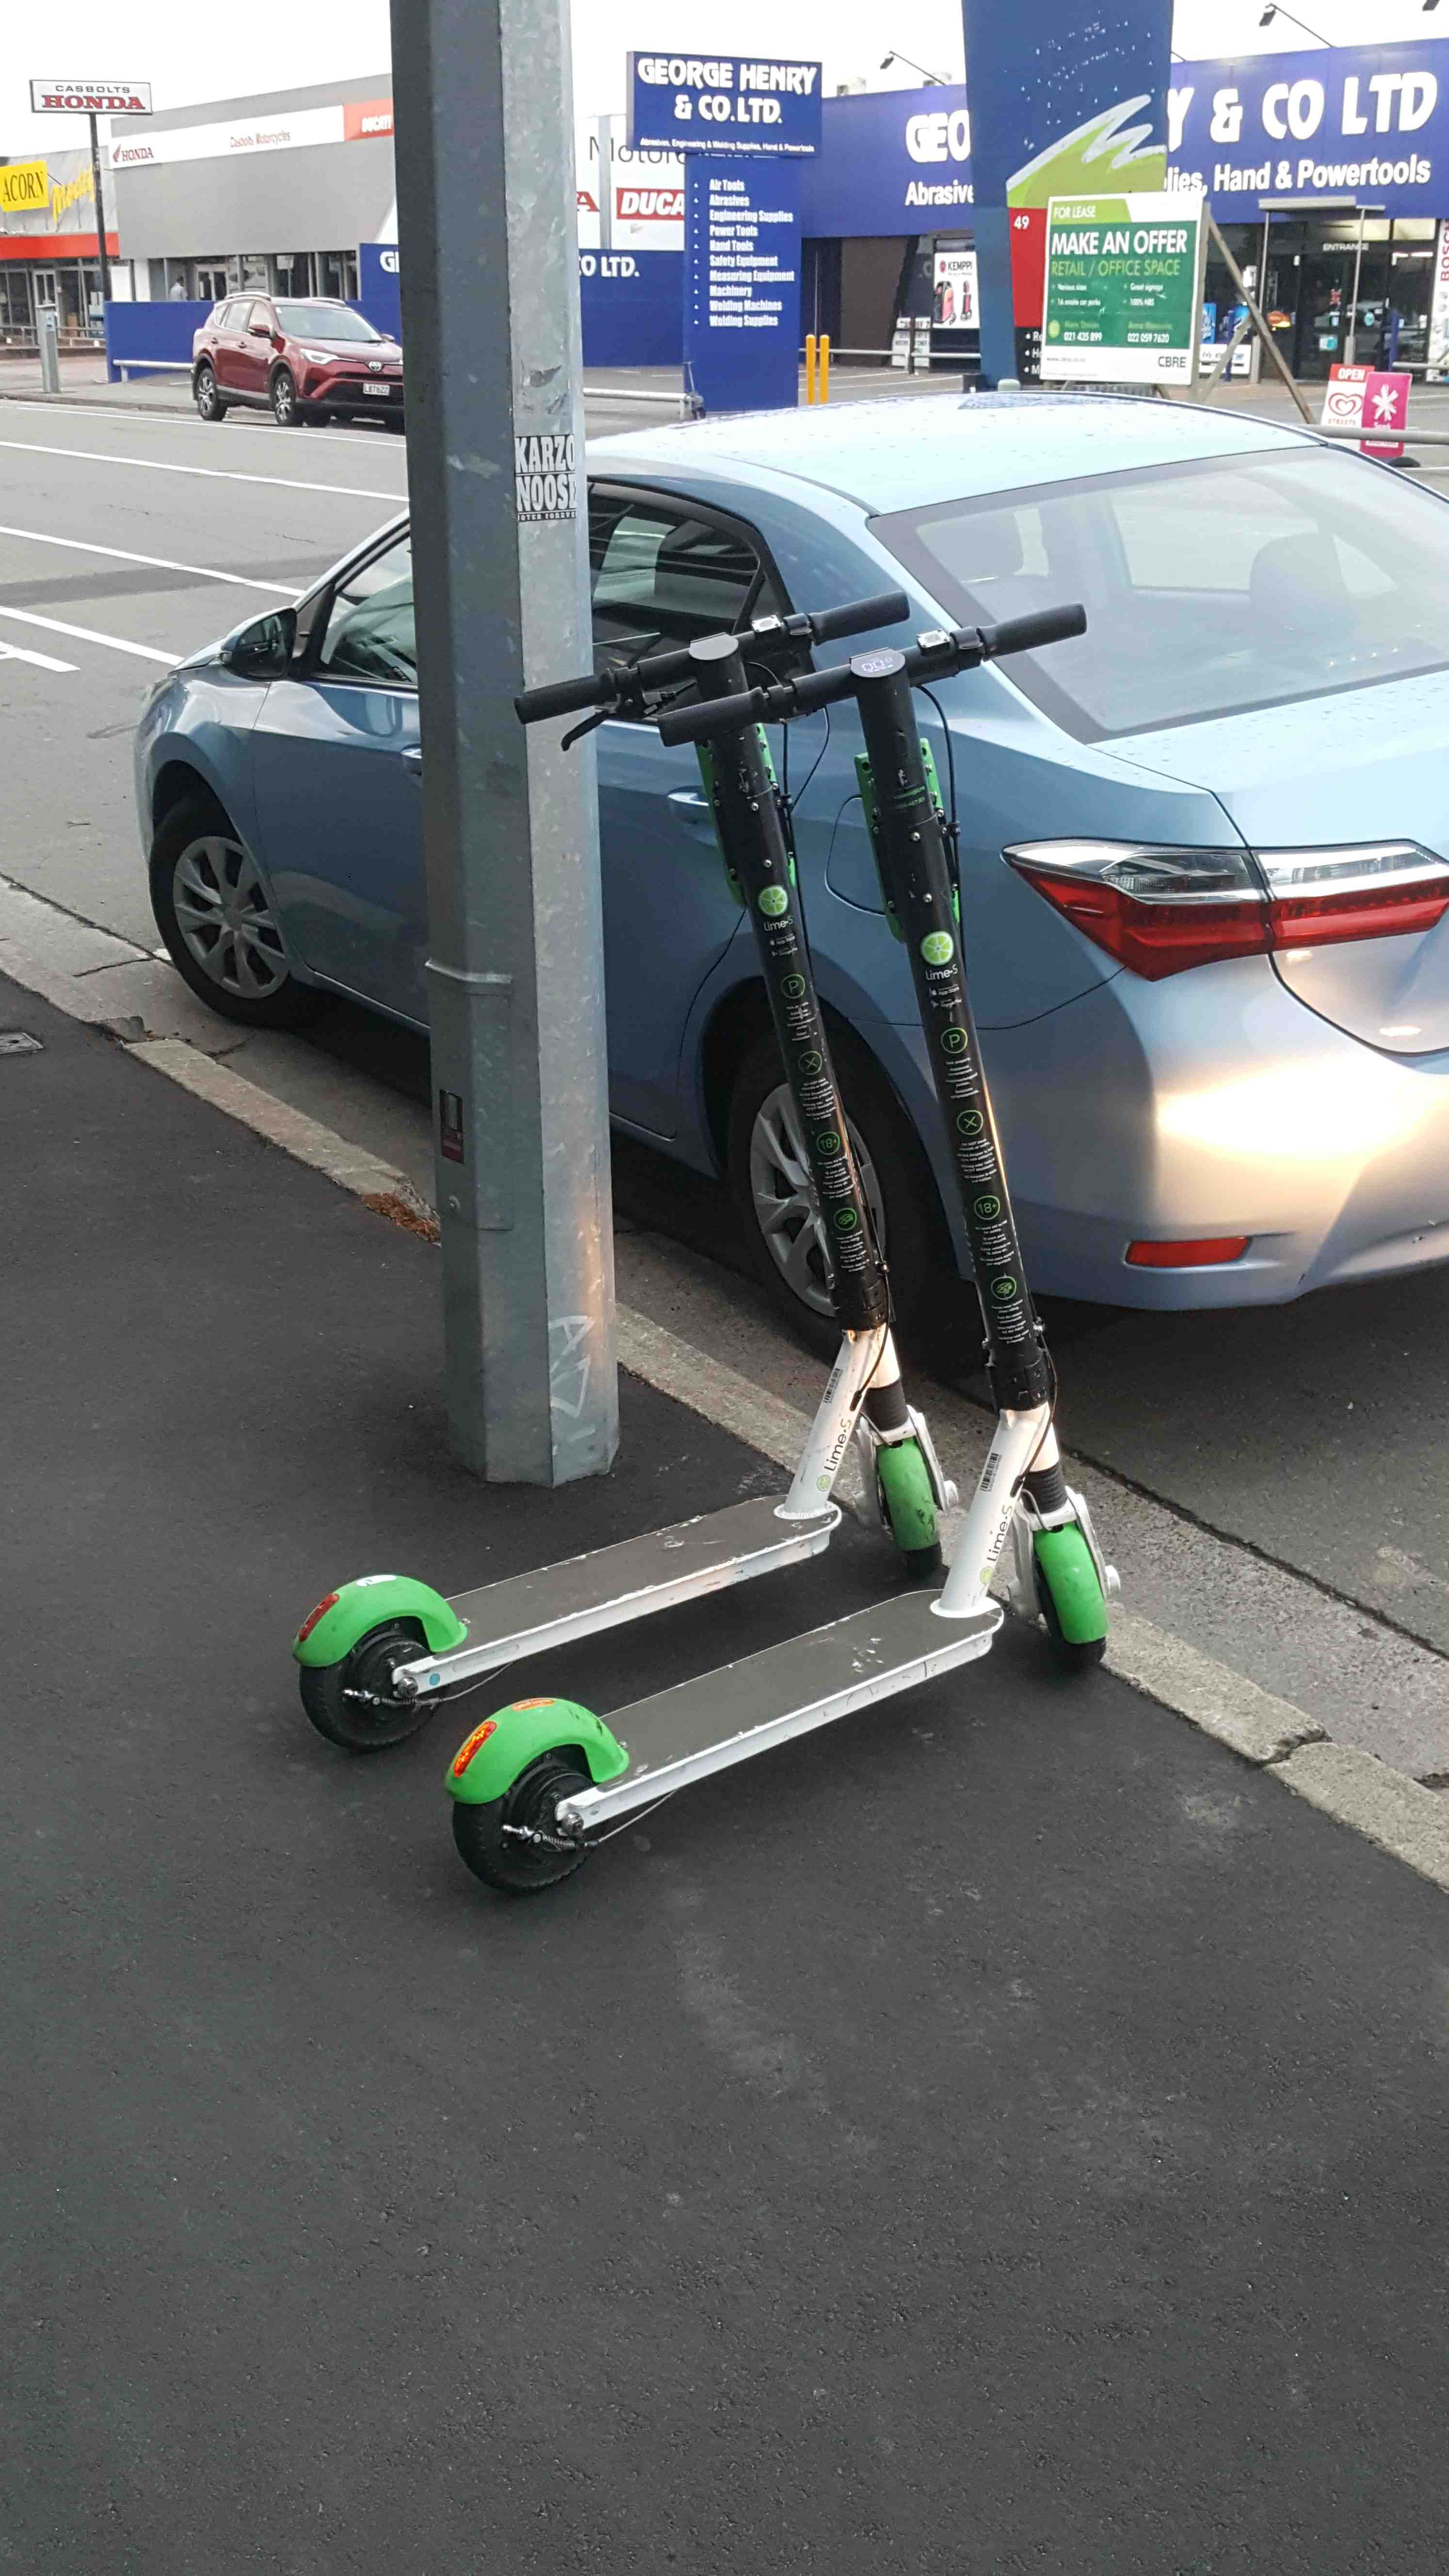too close: (973, 1470, 1238, 1732), (766, 1380, 1012, 1591)
